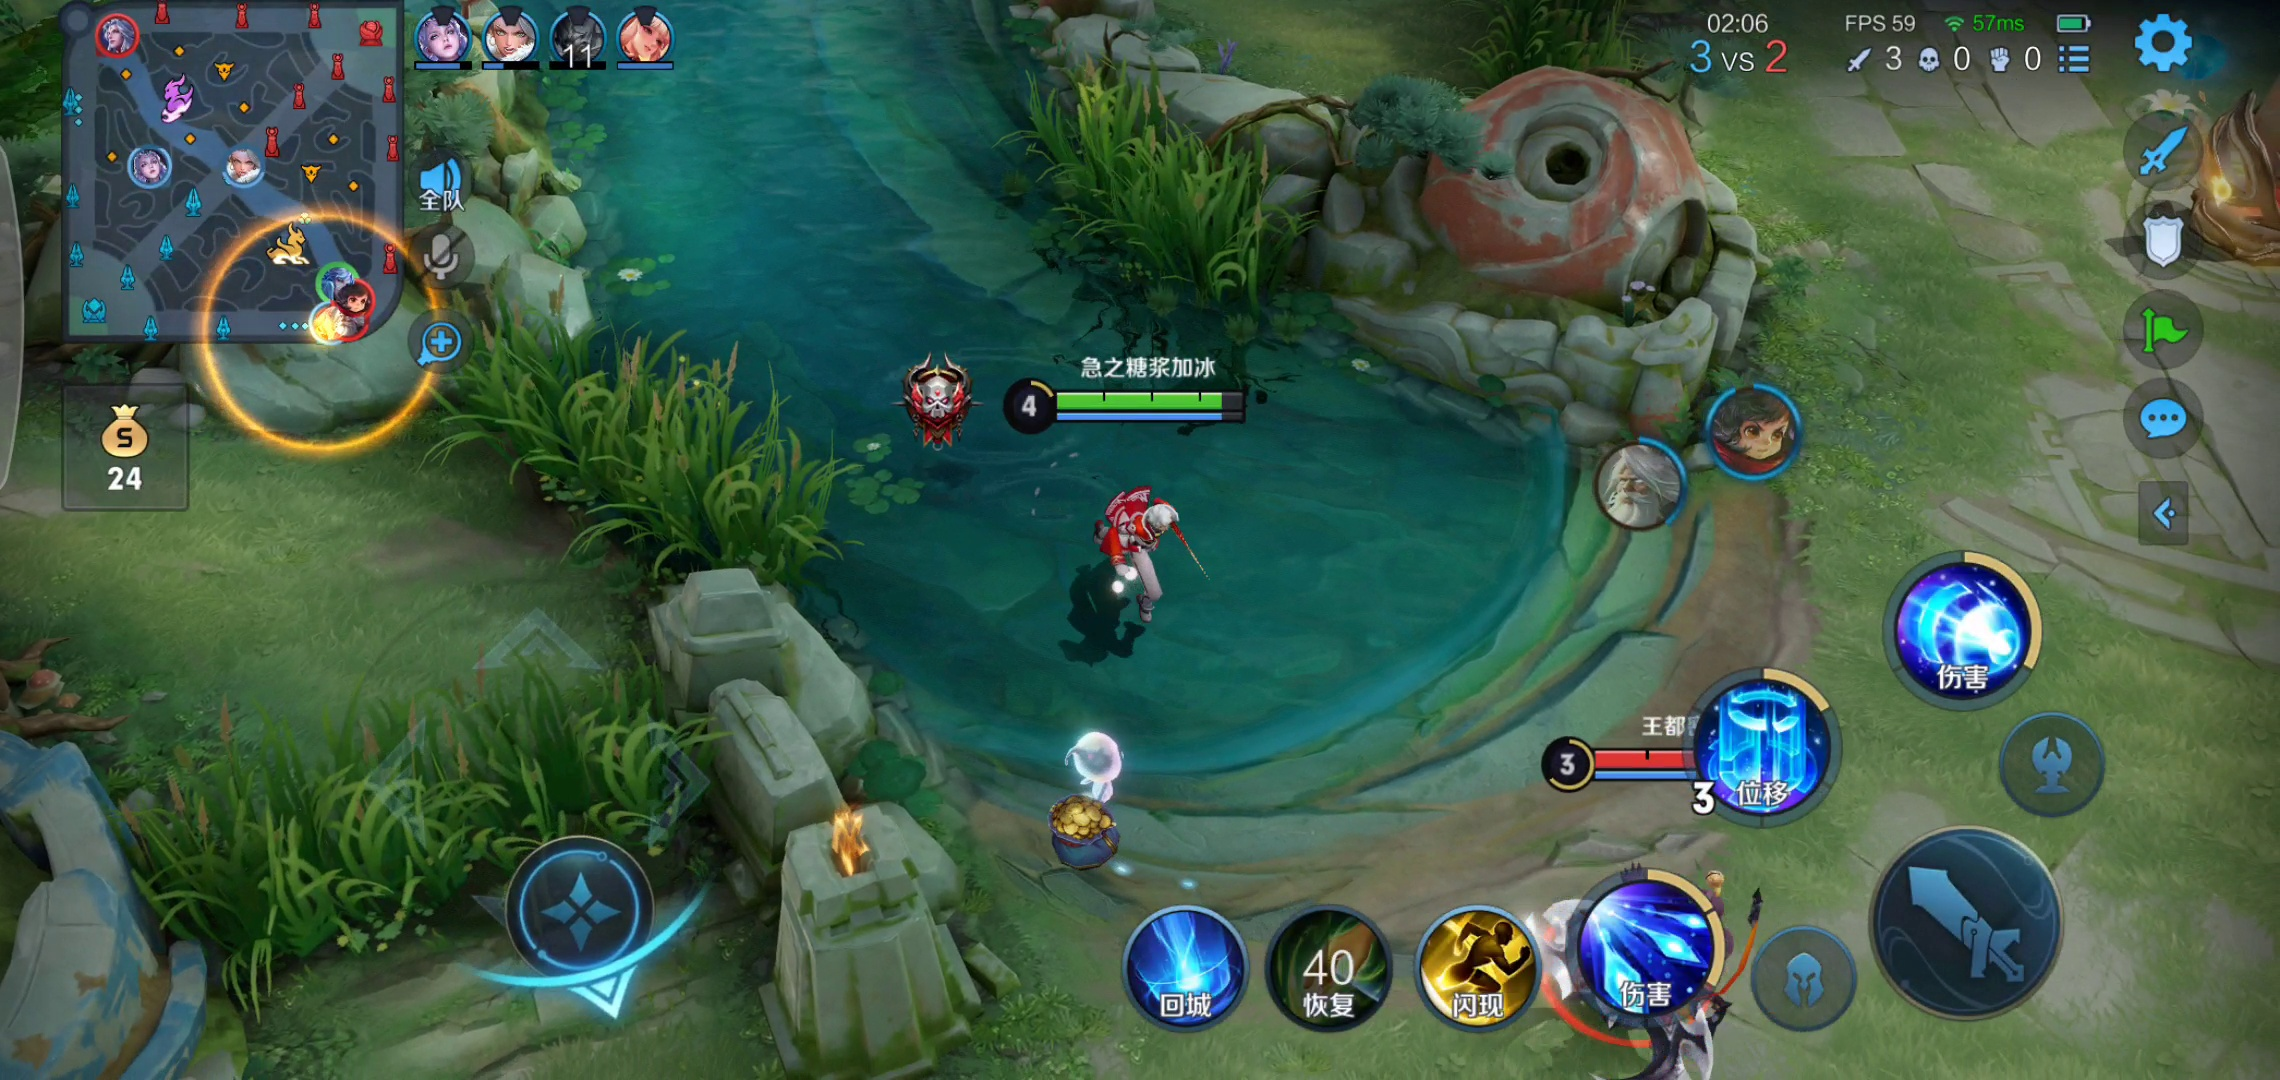grass: (116, 692, 718, 922), (455, 313, 827, 579), (982, 102, 1296, 304)
hero: (1051, 472, 1213, 648)
